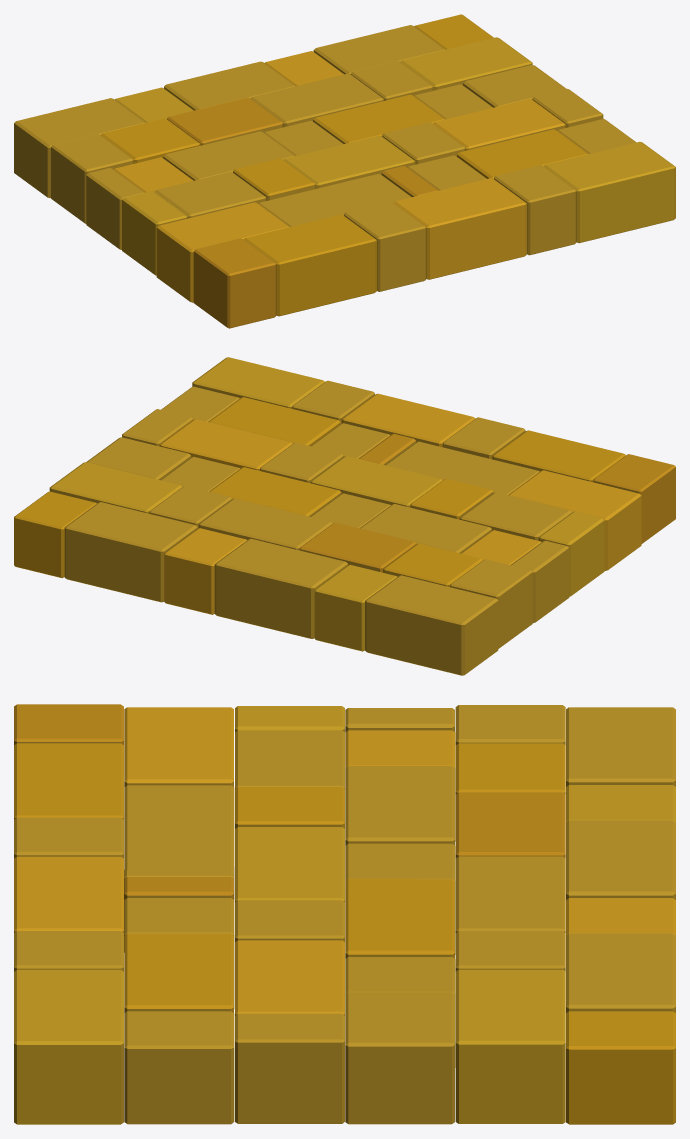
The model's file is Ground.fbx.
The picture shows the model from 3 angles, top to bottom: view 1: azimuth 30°, elevation 25°; view 2: azimuth 150°, elevation 25°; view 3: azimuth 270°, elevation 25°; orthographic projection. The views are drawn at different scales.
Visible parts, largest first — view 1: Cube.002; view 2: Cube.002; view 3: Cube.002.
Part boxes in pixels (x1,y1,x2,y2): Cube.002: (14,14,675,328); Cube.002: (14,357,675,675); Cube.002: (14,704,675,1124).
Size of the model in its own units: 838 by 98.8 by 690.
